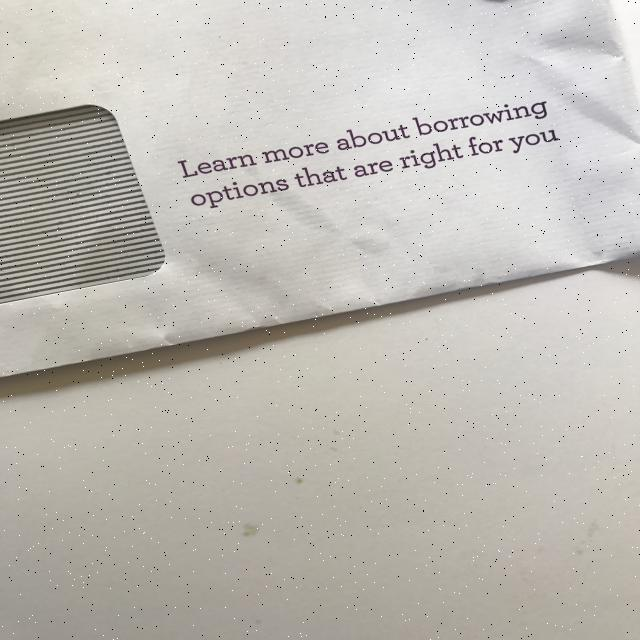paper: (1, 1, 639, 378)
